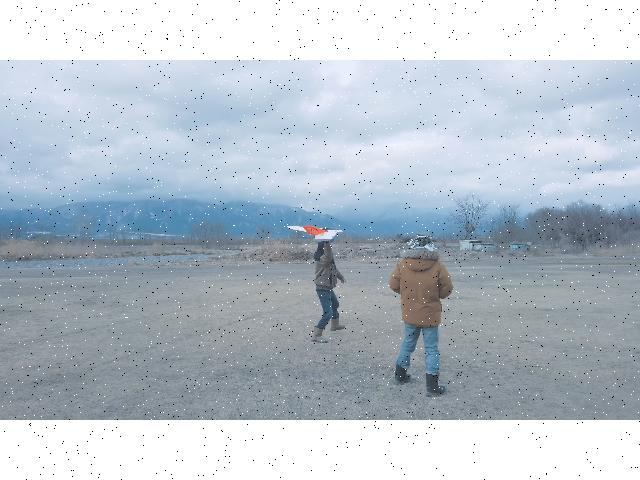Anti-Drone: (286, 223, 344, 244)
